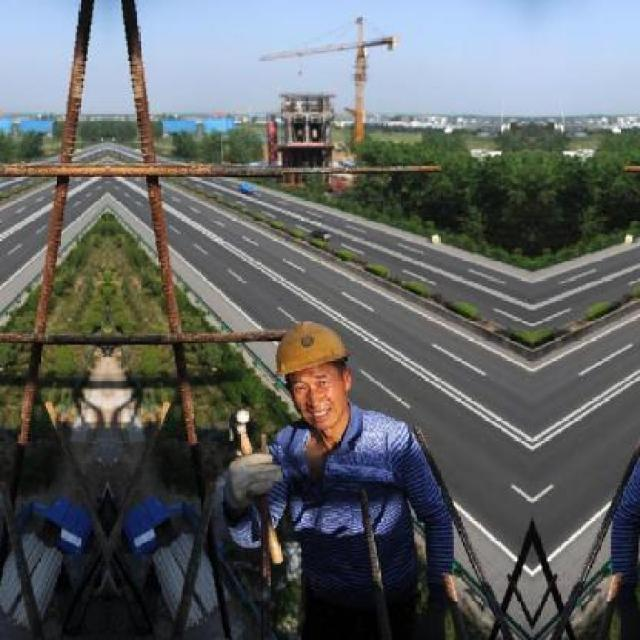helmet: (264, 312, 358, 432)
